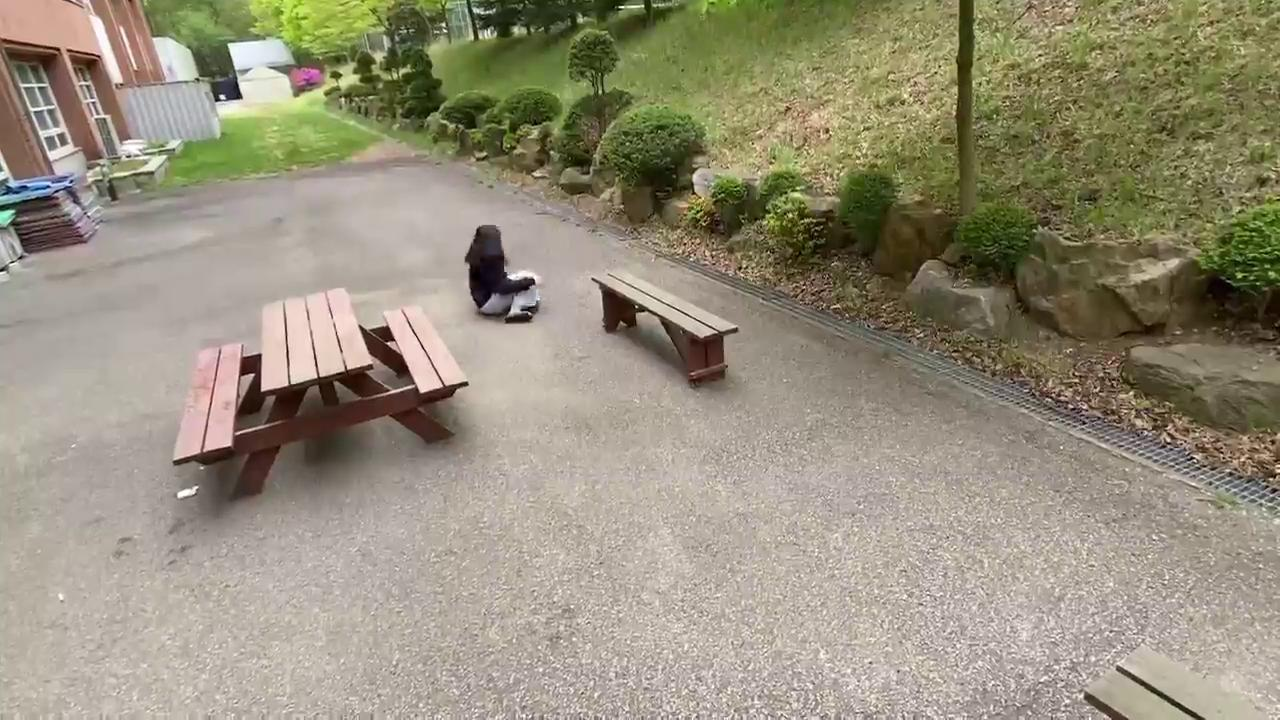fall_down: (462, 223, 543, 322)
